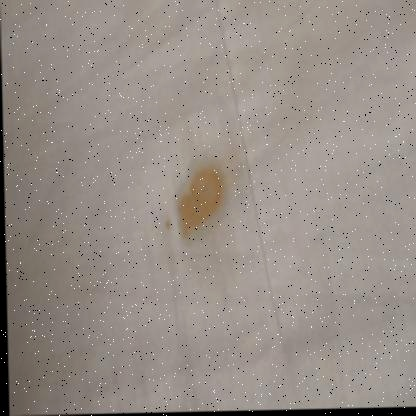kimchi: (170, 162, 233, 243)
